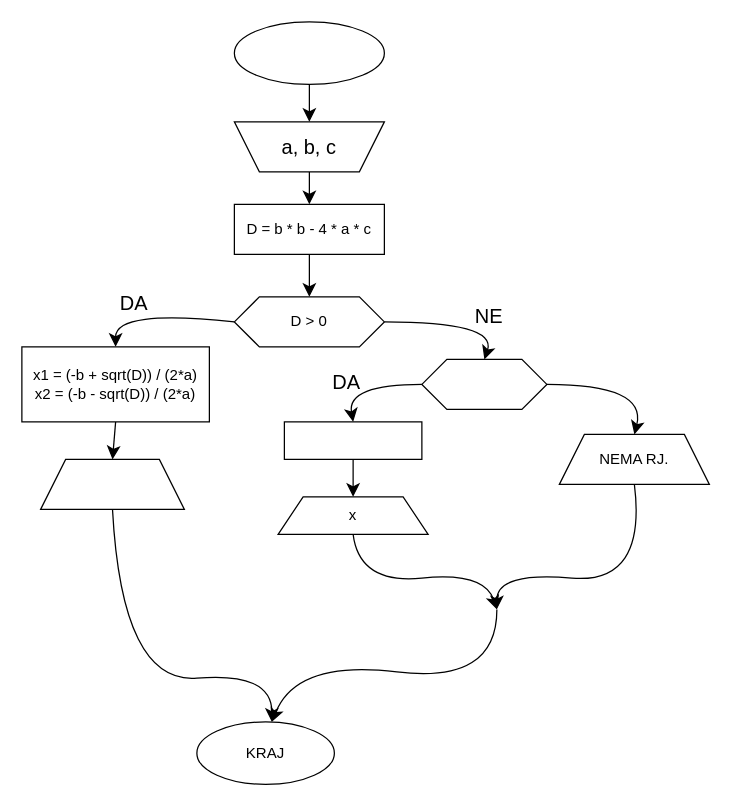
The diagram is 731 pixels wide and 806 high, and some of its shapes have lost their labels. The centre of each missing label's shape, as x and y in pixels:
D = 0: point (484, 383)
Pocetak: point (308, 52)
x = -b / (2*a): point (352, 440)
x1, x2: point (111, 483)
